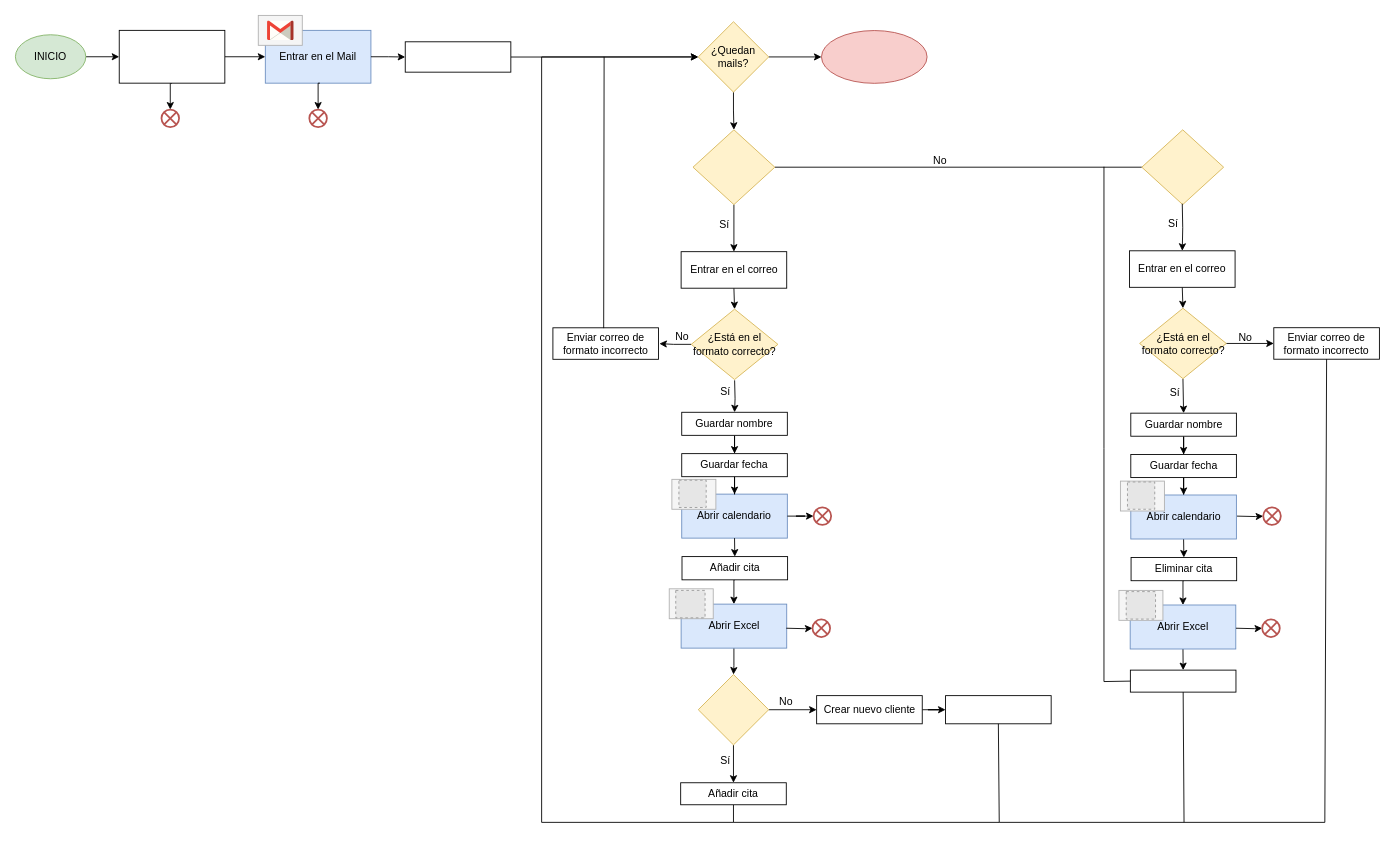
The diagram is 1395 pixels wide and 845 high, and some of its shapes have lost their labels. Grey dashed boxes stand in for pictures. The centre of each missing label's shape, as x and y in pixels:
A las 8:30 a.m. se enciende el robot: (171,56)
Cancelada = sí: (1182,680)
Enviar mail: Tarifa: (998,709)
Filtrar el día de hoy: (457,56)
FIN: (874,56)
¿Es un cliente antiguo?: (733,709)
¿Hay mails con asunto "Cancelar"?: (1182,167)
¿Hay mails con asunto "Cita"?: (733,167)
